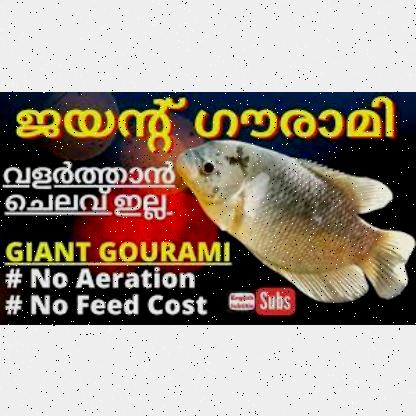gurame: (174, 140, 410, 300)
